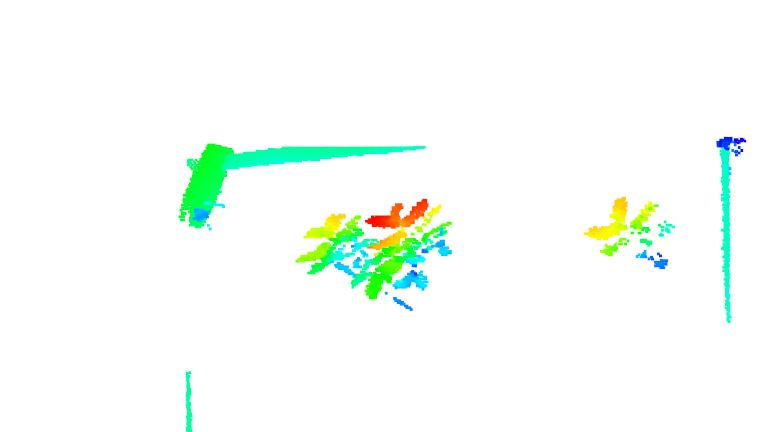chickpea: (582, 193, 676, 270), (365, 202, 457, 262), (289, 215, 366, 275), (352, 256, 429, 309)
